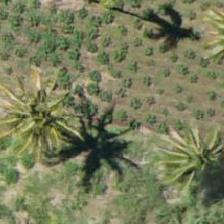coconut_tree: (1, 66, 91, 156), (144, 117, 223, 207)
